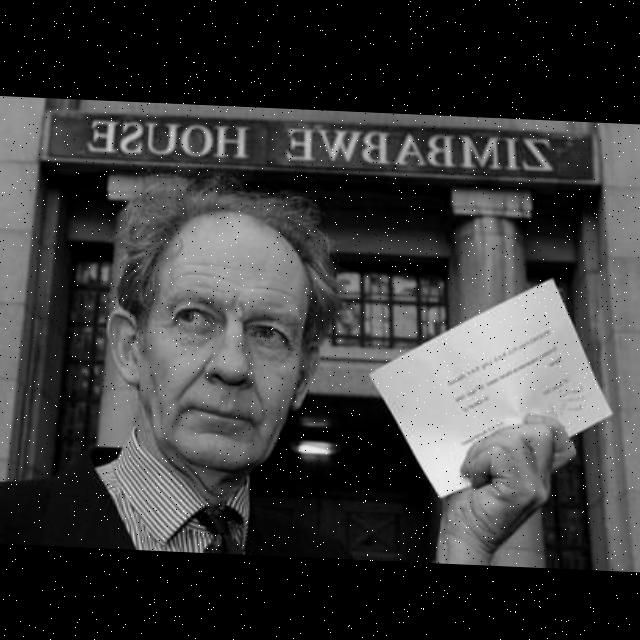face: (129, 200, 311, 474)
